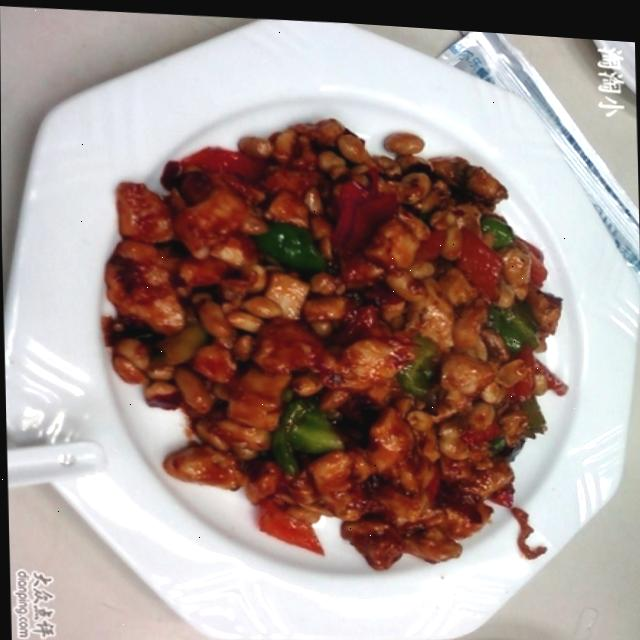鸡肉料理 含炸鸡: (65, 51, 612, 615)
